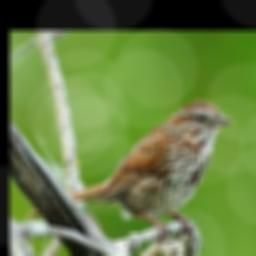Sparrow: (26, 97, 234, 246)
